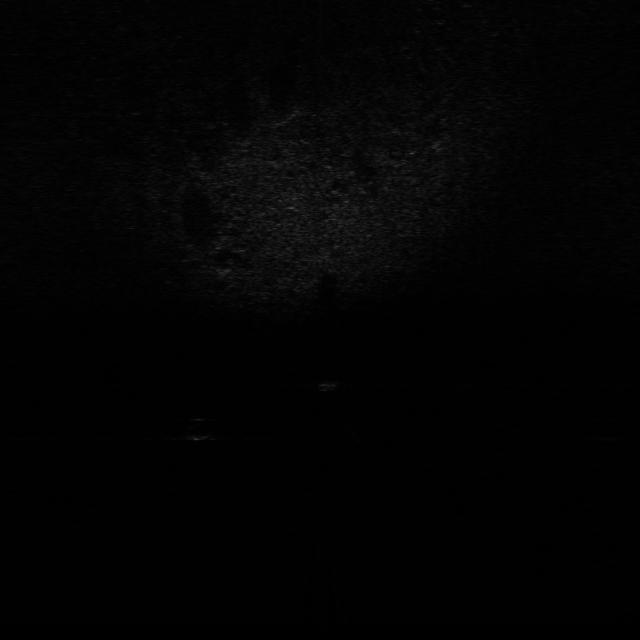ball: (177, 416, 216, 442)
cube: (317, 373, 342, 391)
